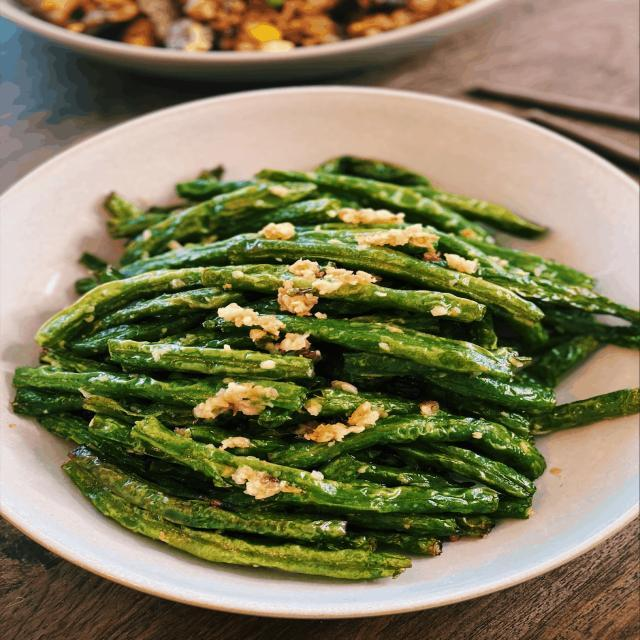Beans: (0, 148, 640, 581)
